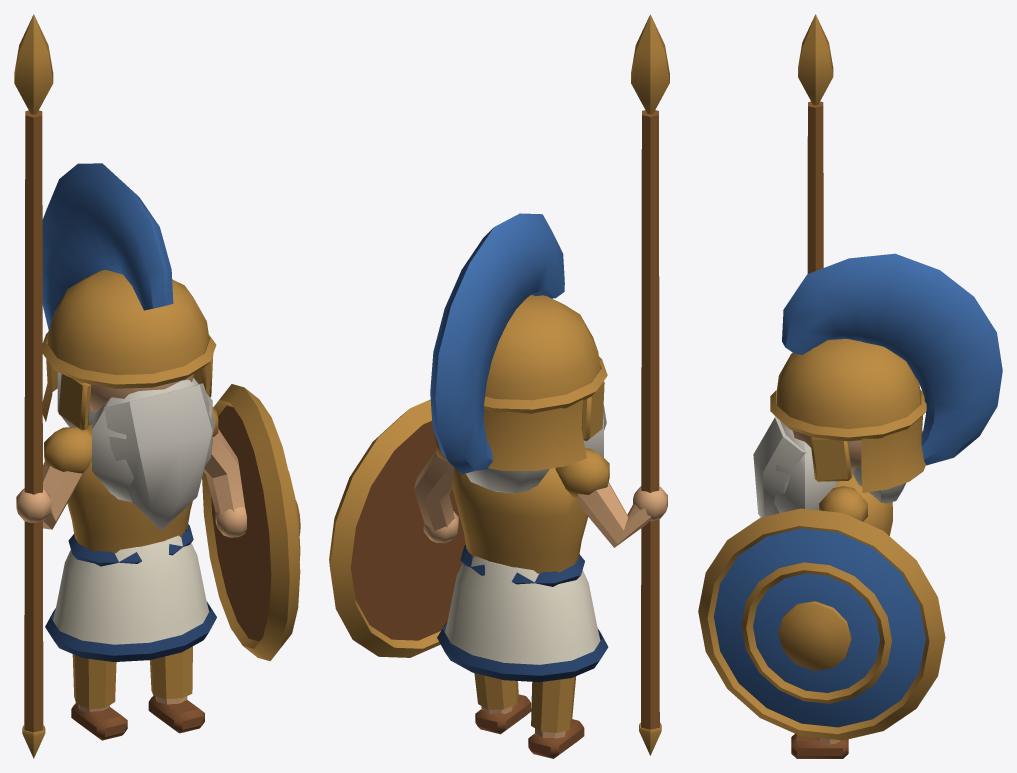
File: idomeneus.glb
3 views of the same model, side by side, from view 1: azimuth 30°, elevation 25°; view 2: azimuth 150°, elevation 25°; view 3: azimuth 270°, elevation 25° (orthographic). The views are drawn at different scales.
Visible parts, largest first — view 1: idomeneus; view 2: idomeneus; view 3: idomeneus.
Part boxes in pixels (left/top/right/bottom): idomeneus: left=14, top=14, right=300, bottom=758; idomeneus: left=329, top=14, right=669, bottom=758; idomeneus: left=698, top=14, right=1002, bottom=758.
Bounding box in the file's own units: 0.5056 × 1.27 × 0.5194.
